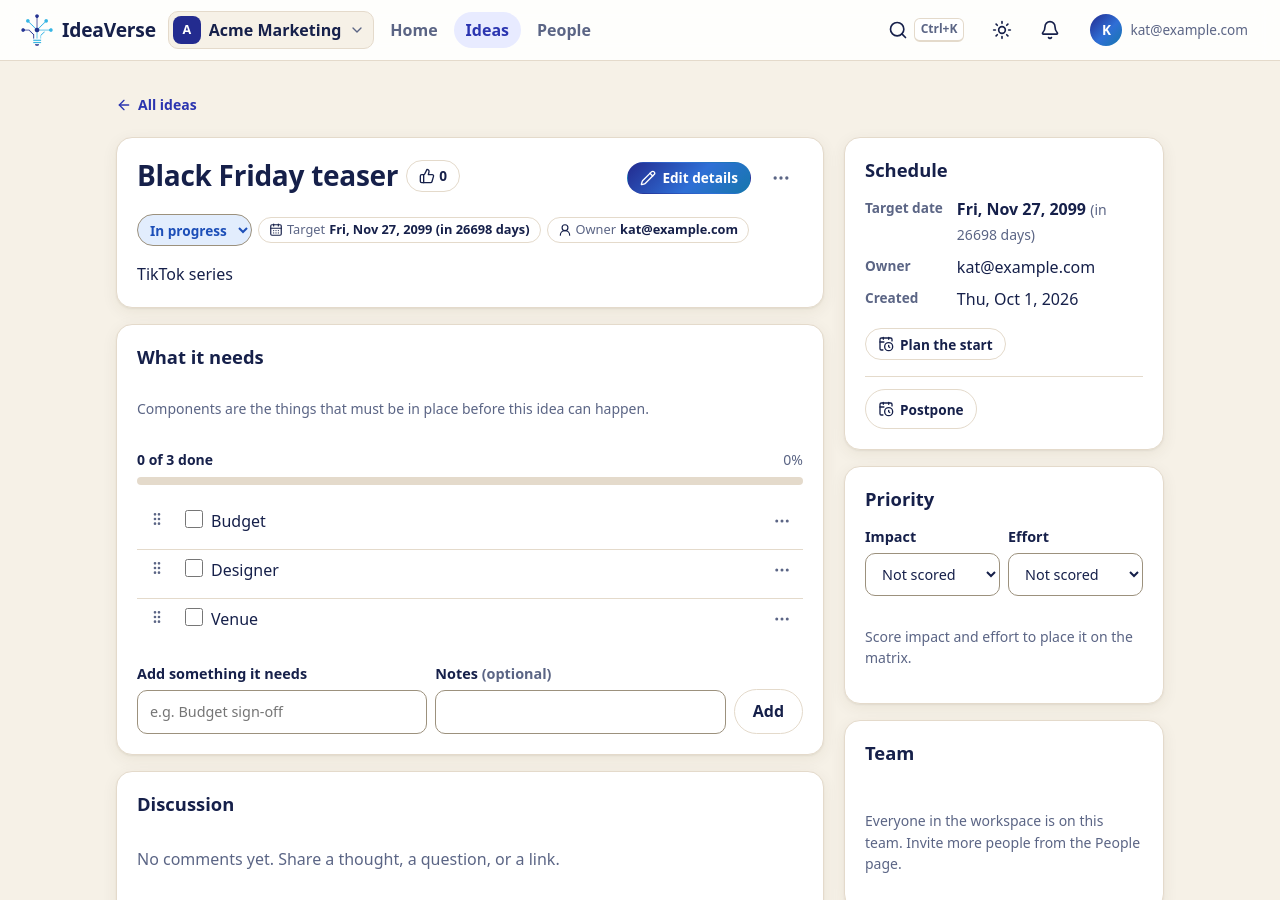
it: Changing the status from the heading › puts the previous status back with Undo
Select "Done" in the dropdown named "Status" at (194, 230), box [137,214,252,246]
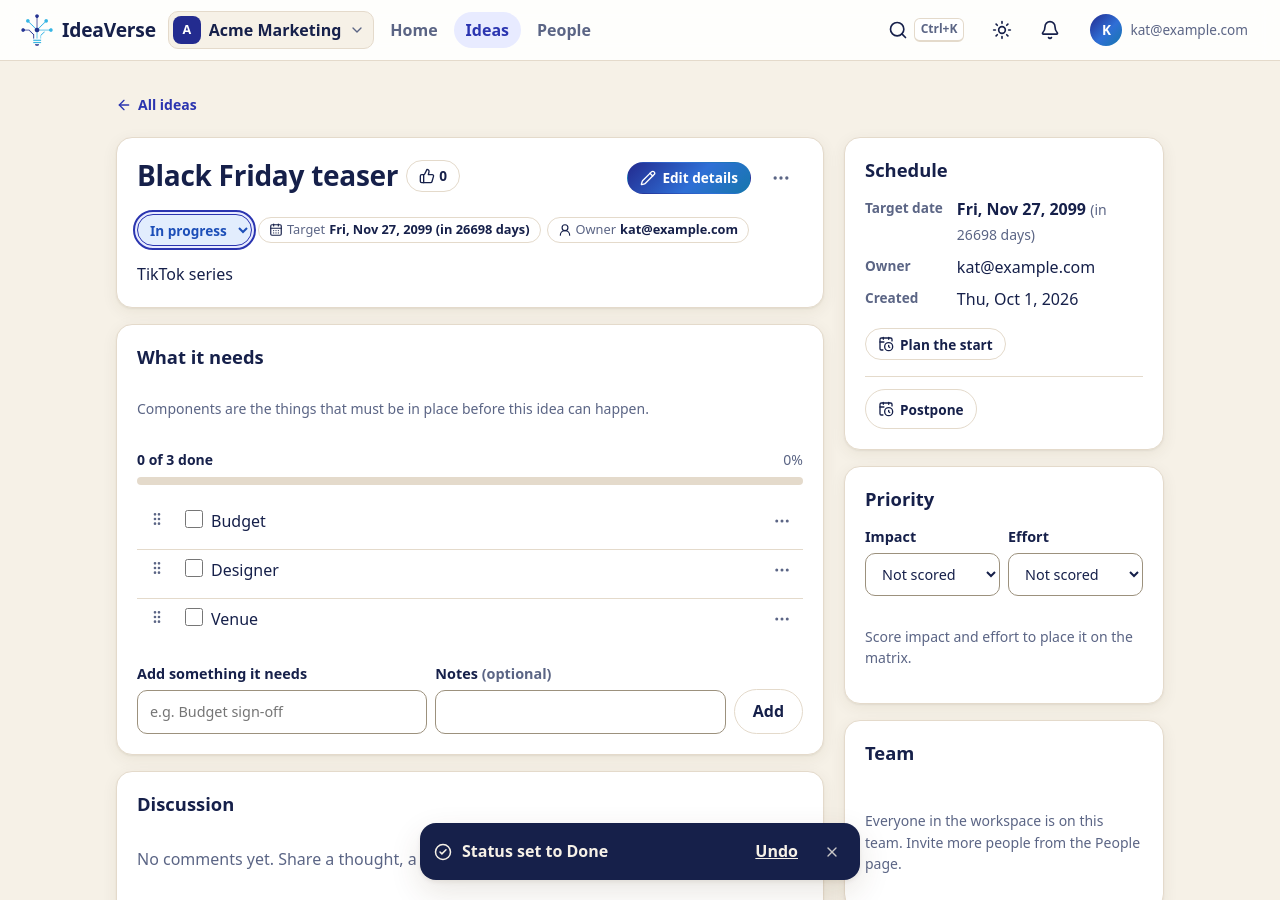
Now the text "Status set to Done" is shown, box [462,840,608,862]
Click the button "Undo" at (777, 852), box [745,835,808,868]
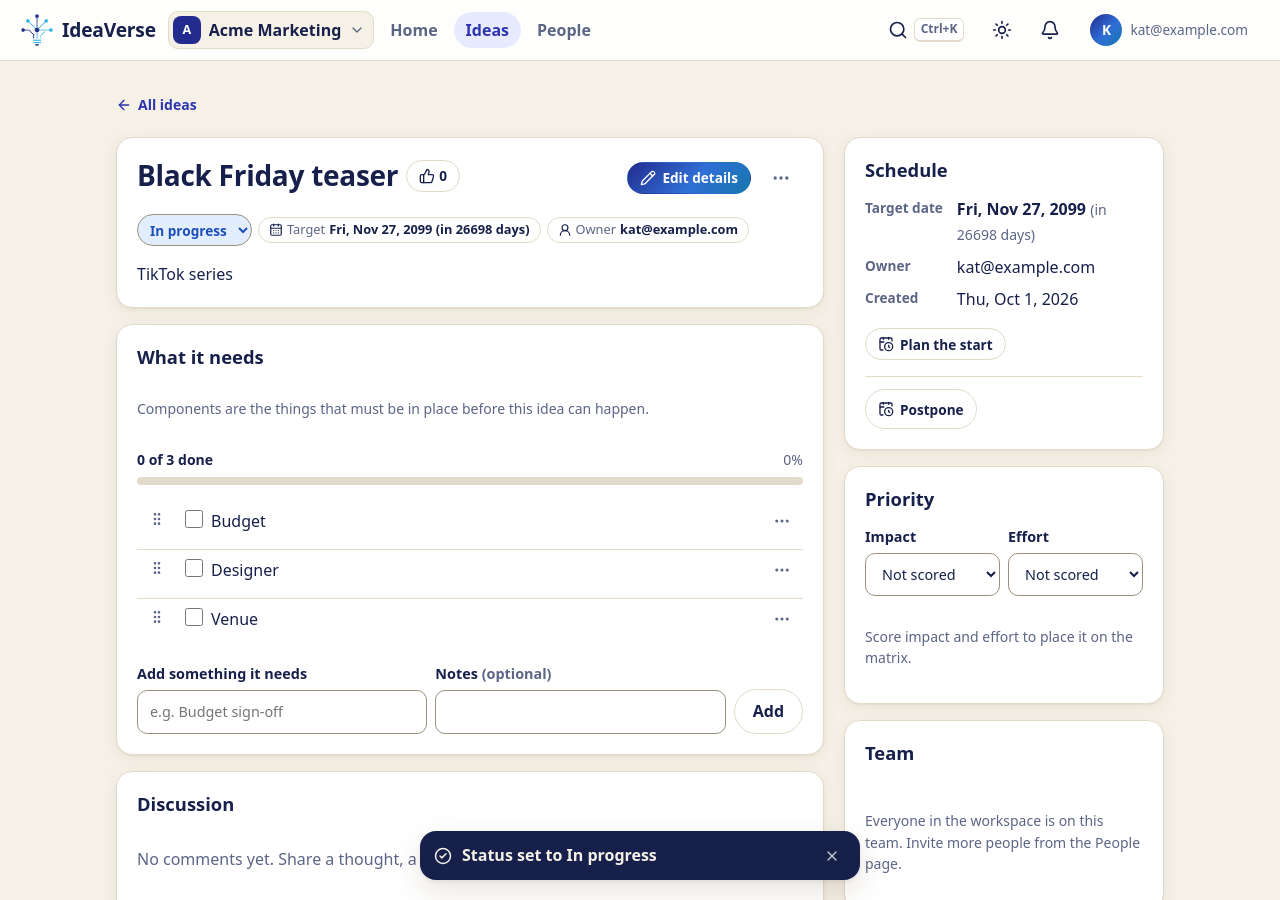
Now the text "Status set to In progress" is shown, box [462,844,657,866]
